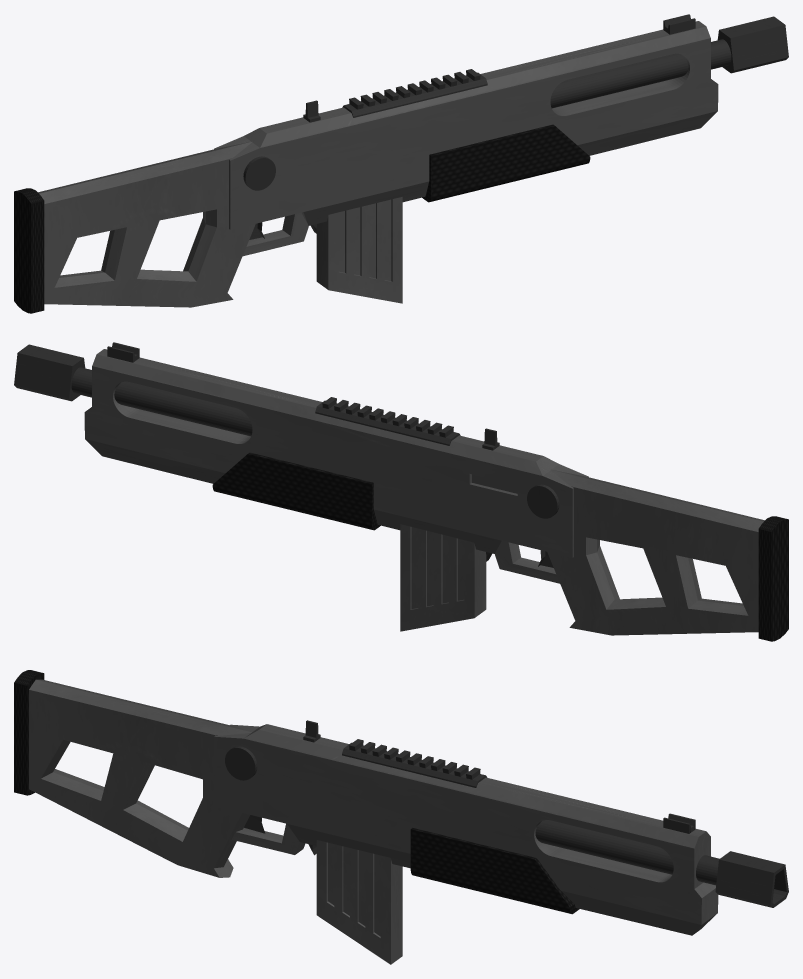
File: Shotgun.fbx
The picture shows the model from 3 angles, top to bottom: view 1: azimuth 30°, elevation 25°; view 2: azimuth 150°, elevation 25°; view 3: azimuth 330°, elevation 25°; orthographic projection.
Visible parts, largest first — view 1: Gun, Magazine; view 2: Gun, Magazine; view 3: Gun, Magazine.
Boxes of the visible parts, x1,y1,x2,y2 form: Gun: (14,14,788,313); Magazine: (316,197,402,303); Gun: (14,342,788,641); Magazine: (400,524,486,631); Gun: (14,670,788,935); Magazine: (316,840,402,964).
Size of the model in its own units: 851 by 234 by 40.22.
Materials: 1 (1 with a texture image).
